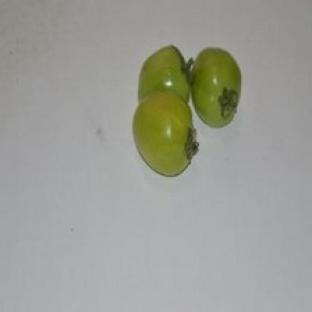Tomato: (133, 91, 197, 176), (191, 48, 240, 126), (138, 45, 190, 103)
